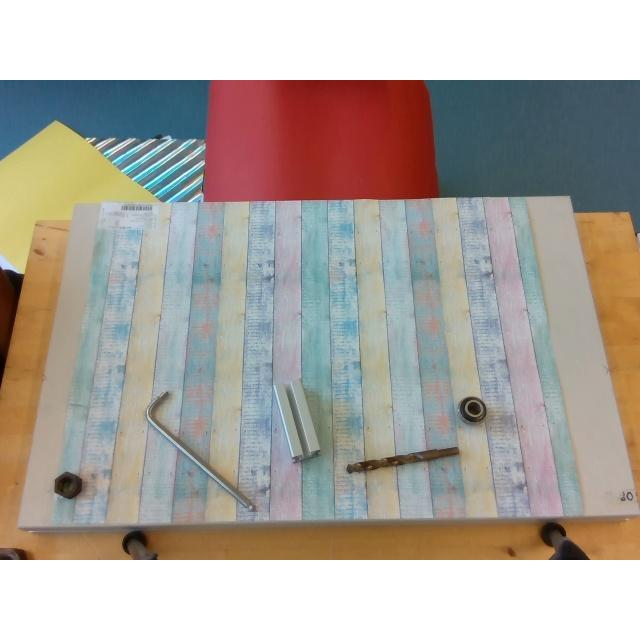AllenKey: (144, 392, 254, 508)
Bearing2: (458, 396, 486, 424)
Drill: (346, 446, 458, 472)
M20: (54, 472, 82, 498)
S40_40_G: (273, 381, 319, 461)
